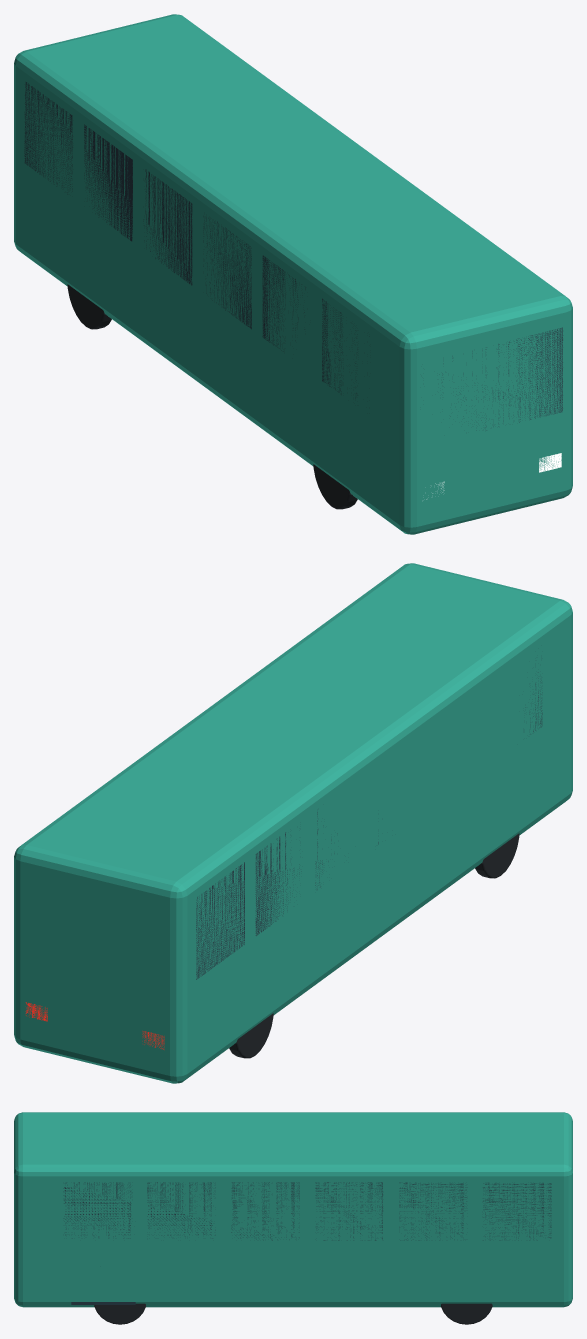
File: bus.glb
The picture shows the model from 3 angles, top to bottom: view 1: azimuth 30°, elevation 25°; view 2: azimuth 150°, elevation 25°; view 3: azimuth 270°, elevation 25°; orthographic projection. The views are drawn at different scales.
Parts seen in each view (by area): view 1: coach-body, passenger-window.004, passenger-window.003, passenger-window.005, front-windscreen, passenger-window.002, passenger-window.001, bus-wheel, bus-wheel.001, passenger-window; view 2: coach-body, passenger-window.005, passenger-window.004, bus-wheel.001, bus-wheel; view 3: coach-body, passenger-window.006, passenger-window.011, bus-wheel.003, passenger-window.007, bus-wheel.002, passenger-window.008, passenger-window.009, passenger-window.010.
Part boxes in pixels (left/top/right/bottom): coach-body: left=14, top=14, right=572, bottom=534; passenger-window.004: left=84, top=124, right=132, bottom=241; passenger-window.003: left=143, top=169, right=192, bottom=285; passenger-window.005: left=24, top=82, right=72, bottom=194; front-windscreen: left=439, top=327, right=563, bottom=430; passenger-window.002: left=203, top=216, right=251, bottom=329; passenger-window.001: left=262, top=255, right=305, bottom=351; bus-wheel: left=313, top=464, right=357, bottom=509; bus-wheel.001: left=67, top=284, right=111, bottom=329; passenger-window: left=322, top=298, right=369, bottom=398; coach-body: left=14, top=563, right=572, bottom=1083; passenger-window.005: left=196, top=862, right=244, bottom=979; passenger-window.004: left=255, top=832, right=301, bottom=935; bus-wheel.001: left=229, top=1013, right=273, bottom=1058; bus-wheel: left=475, top=833, right=519, bottom=878; coach-body: left=14, top=1112, right=572, bottom=1307; passenger-window.006: left=63, top=1182, right=132, bottom=1238; passenger-window.011: left=483, top=1182, right=551, bottom=1240; bus-wheel.003: left=441, top=1303, right=492, bottom=1324; passenger-window.007: left=147, top=1182, right=215, bottom=1238; bus-wheel.002: left=94, top=1303, right=145, bottom=1324; passenger-window.008: left=231, top=1182, right=299, bottom=1240; passenger-window.009: left=315, top=1182, right=382, bottom=1240; passenger-window.010: left=399, top=1182, right=467, bottom=1240.
Size of the model in its own units: 2.5 by 3.1 by 10.
